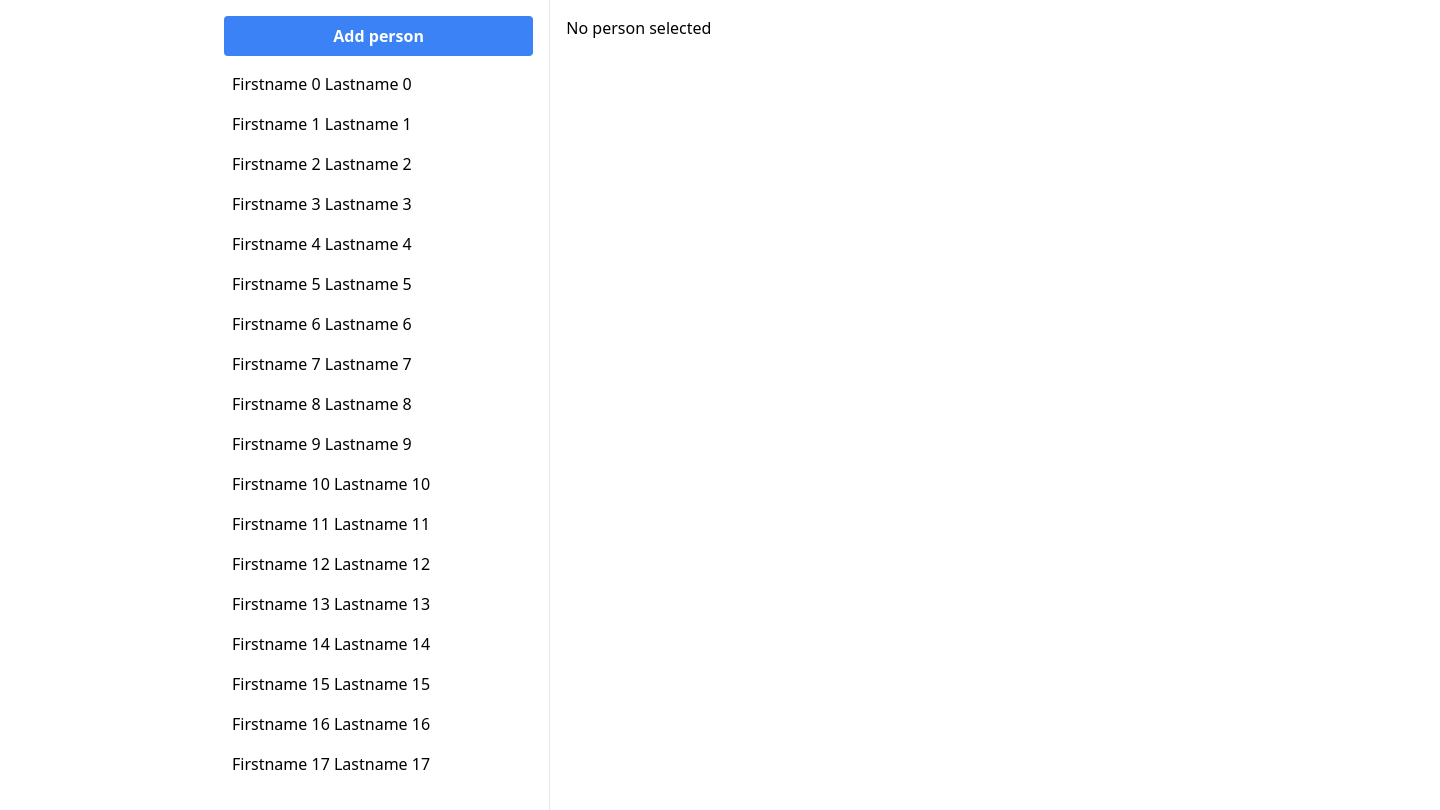
Test case: App › should update a person
Click the list item "Firstname 0 Lastname 0" at [322, 84], box [232, 73, 412, 95]
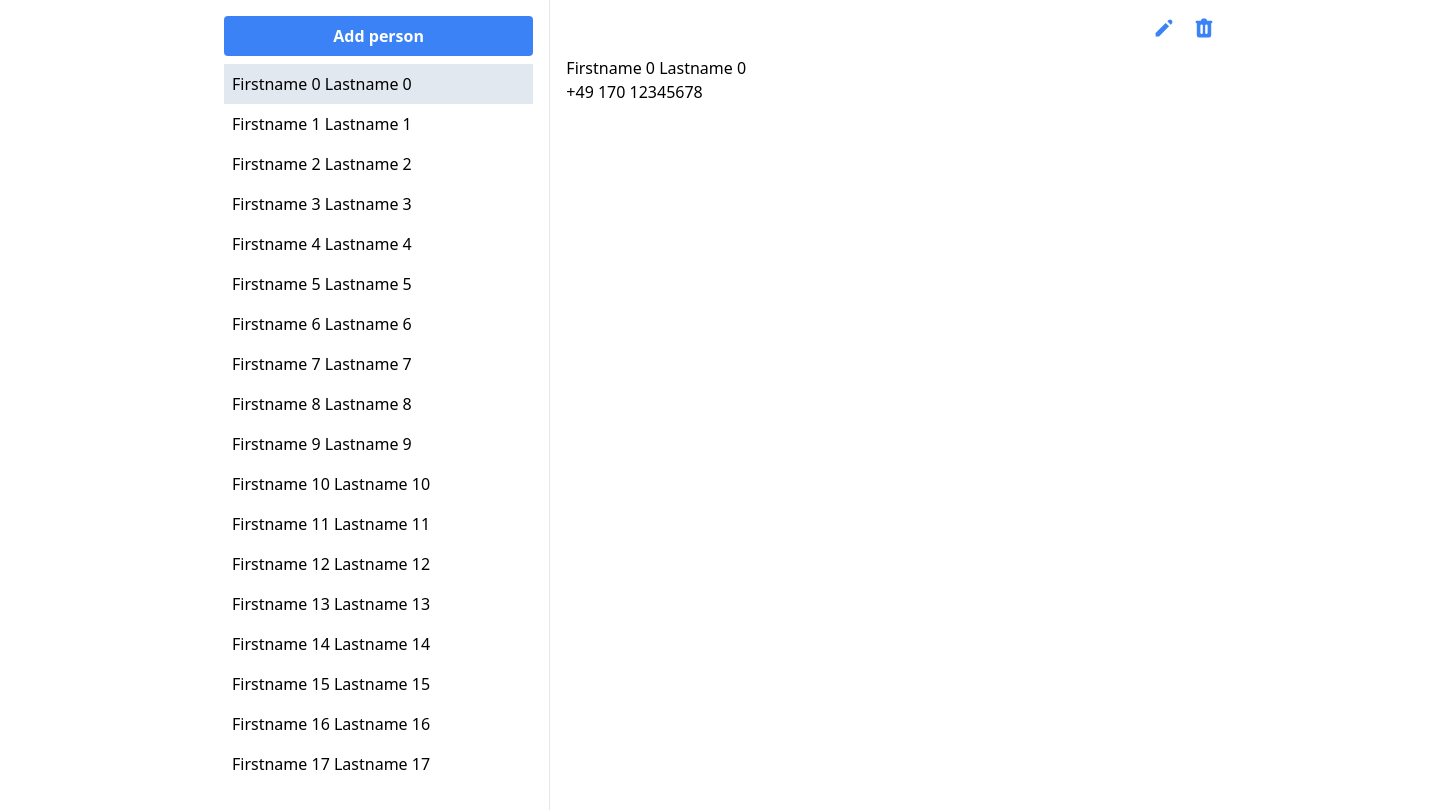
Click the button with test id "edit-person" at [1164, 28], box [1152, 16, 1176, 40]
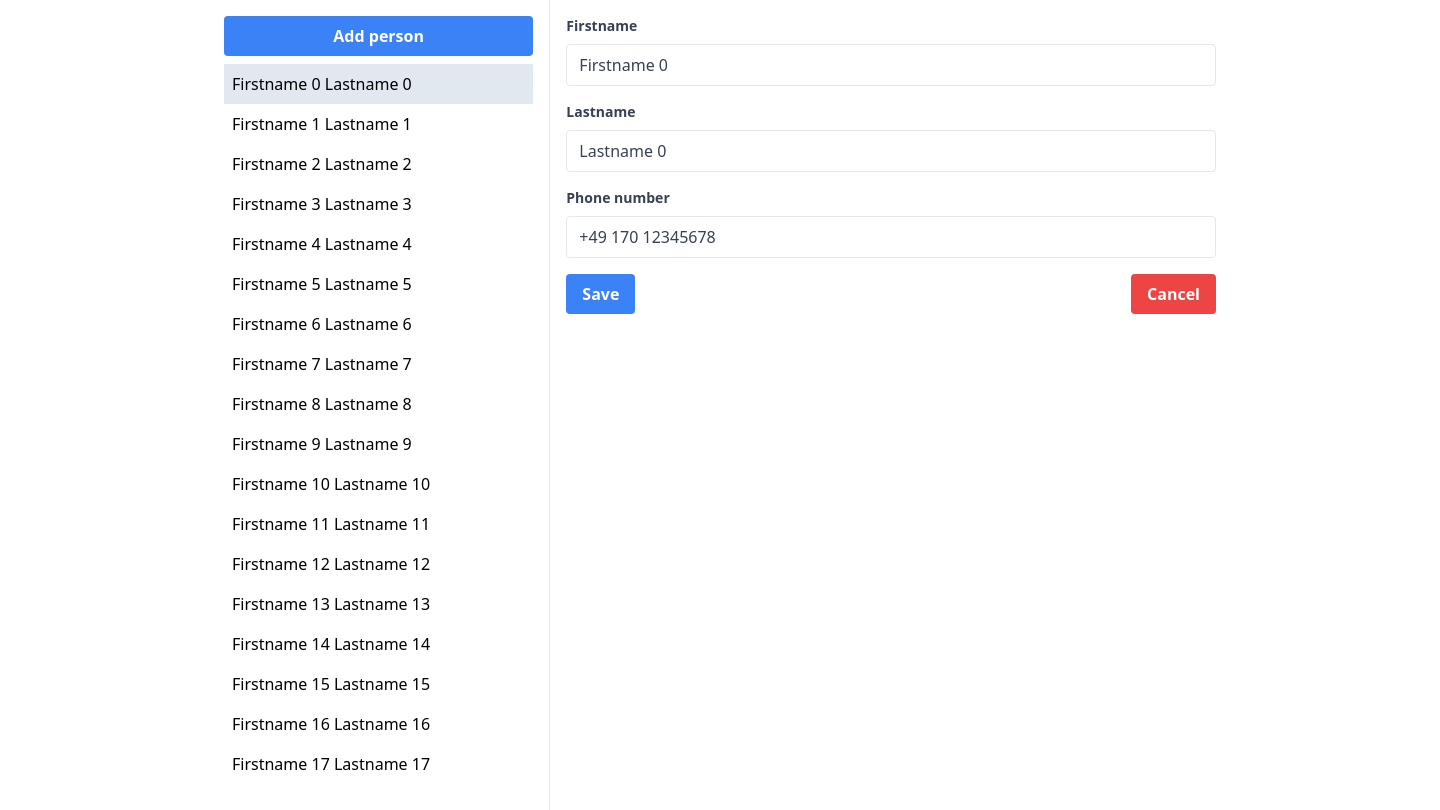
Expected: the form with test id "person-form" is shown, [566, 16, 1216, 314]
Replace the text in the field labelled "Firstname" with "Firstname_Edit" at [891, 65], box [566, 44, 1216, 86]
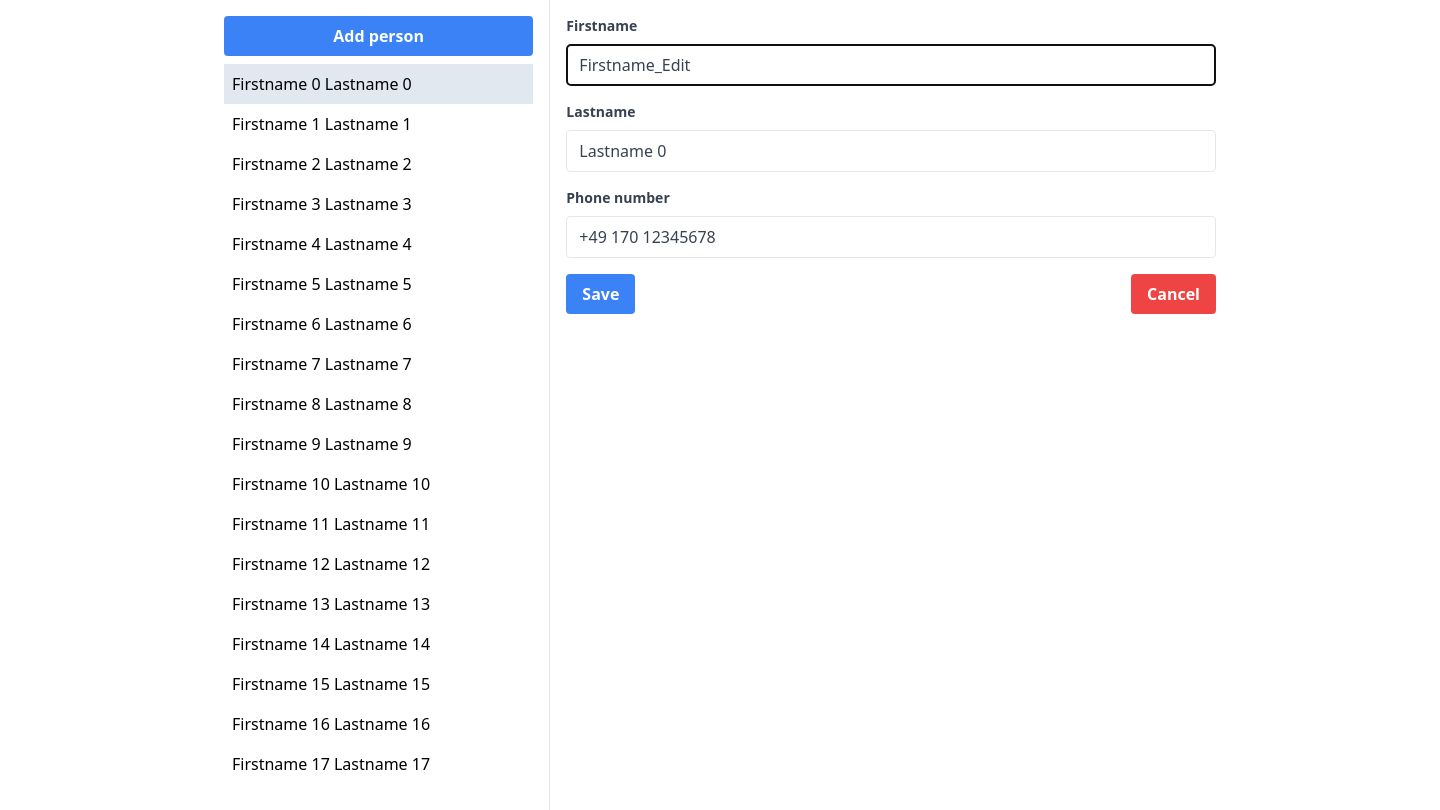
Click the button with aria-label "save person" at [601, 294], box [566, 274, 635, 314]
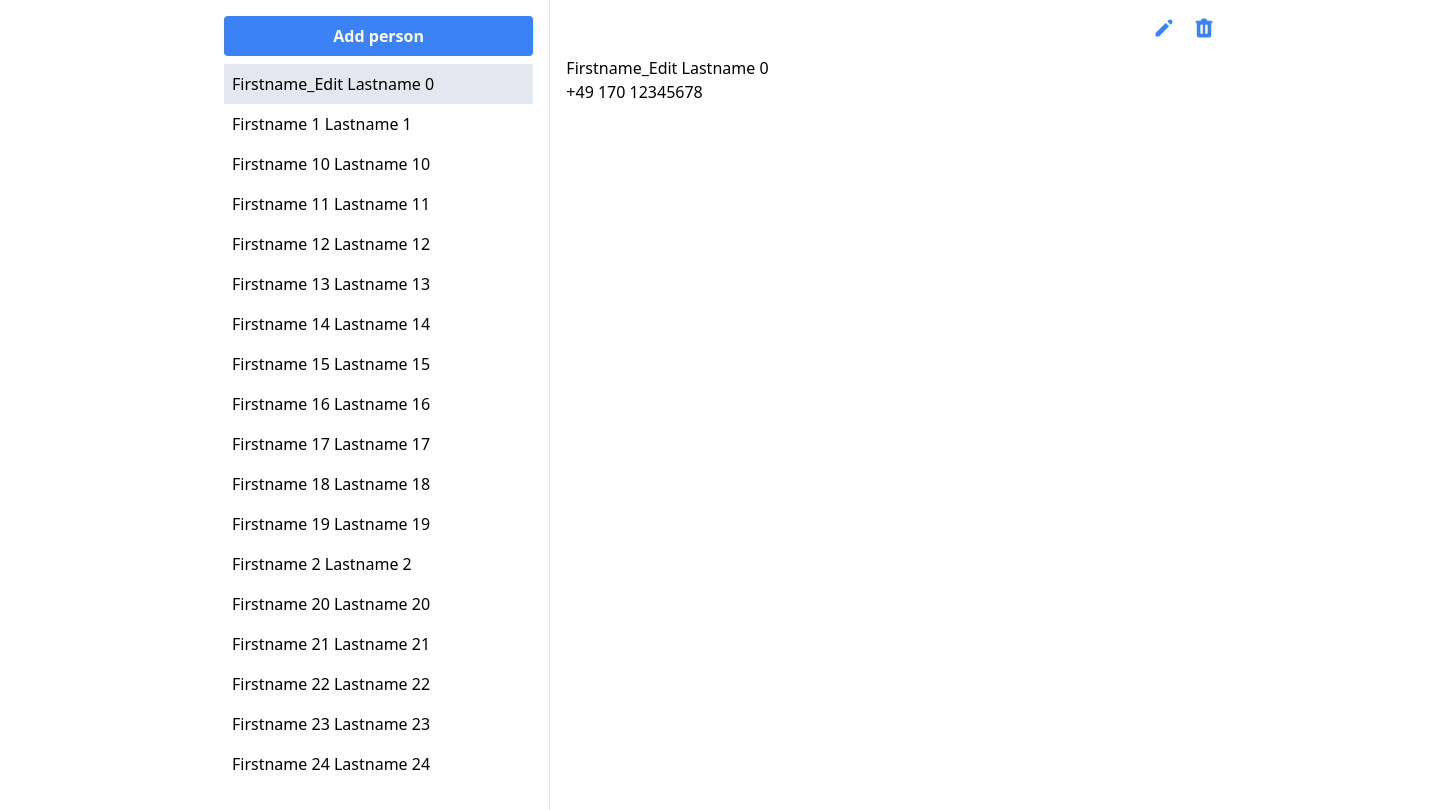
Expected: the element with test id "person-list-container" shows "Firstname_Edit", [232, 73, 343, 95]
Expected: the element with test id "person-list-container" no longer shows "Firstname 0", [208, 0, 549, 809]
